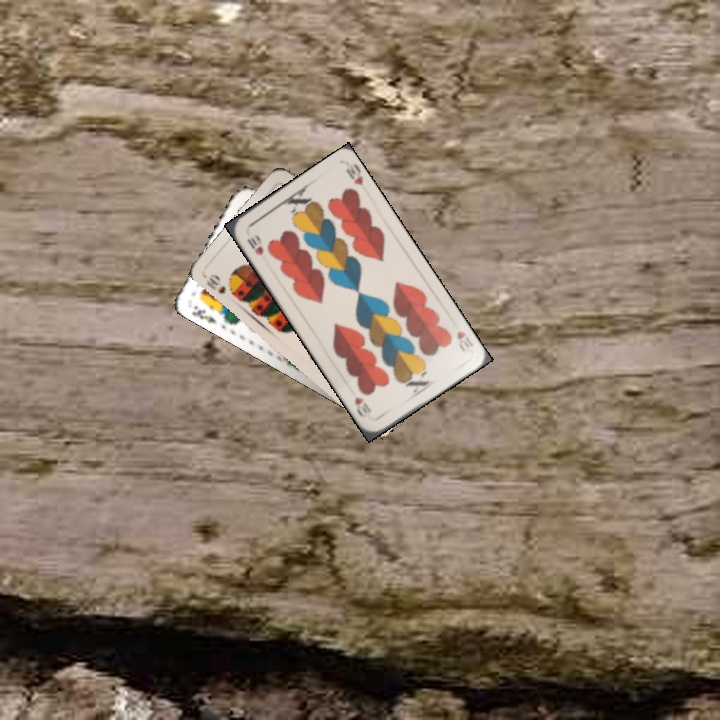EK: (188, 301, 219, 326)
H10: (453, 327, 477, 354), (243, 234, 266, 258)
S10: (202, 270, 239, 298)
